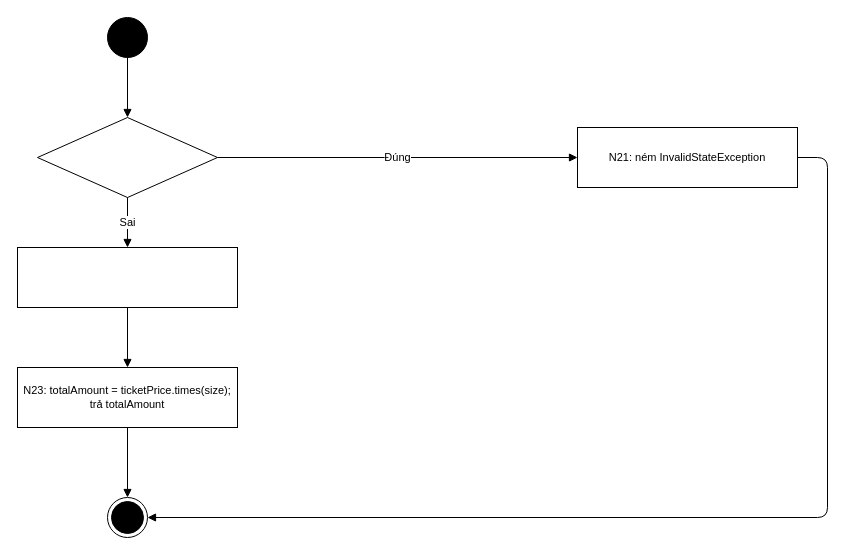
This 853x555 diagram has some shape labels left out. Here are the shapes that lost their labels. From the top down, the centre of each, then its label:
At [127,157]: "N20: status khác DRAFT?".
At [127,277]: "N22: ticketPrice = trip.determineTicketPrice()".
